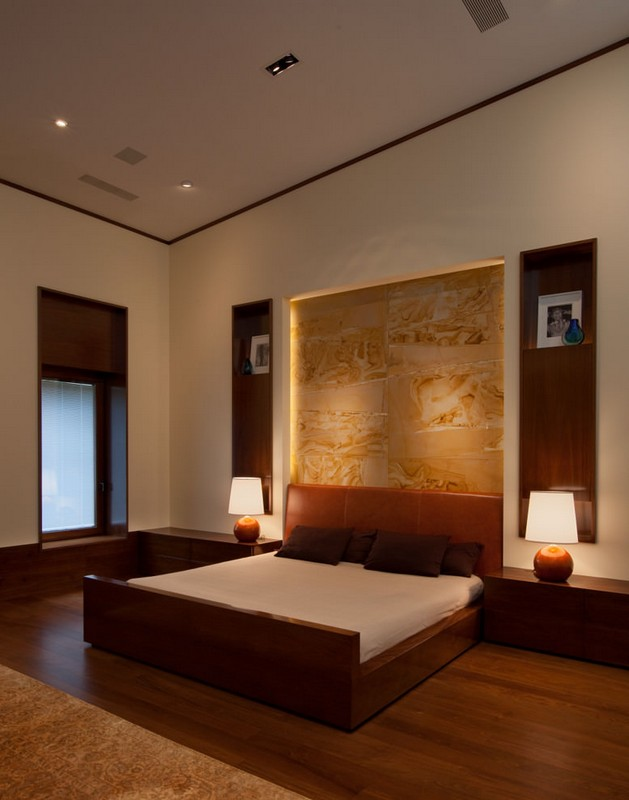bed: (82, 481, 503, 740)
lamp: (524, 487, 581, 589), (228, 473, 265, 564)
stool: (478, 558, 629, 672), (118, 520, 281, 581)
